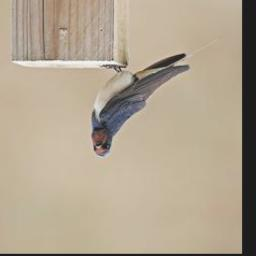Swallow: (89, 38, 221, 161)
